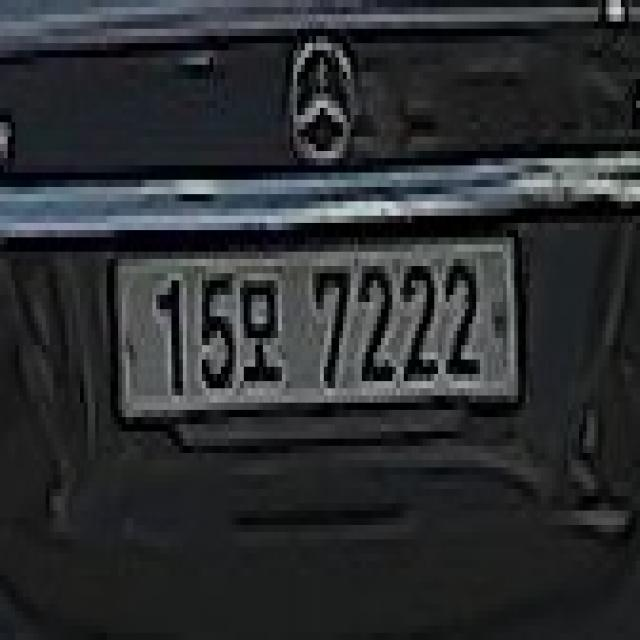1: (153, 266, 195, 403)
2: (438, 252, 488, 388), (354, 252, 400, 396), (400, 259, 442, 388)
5: (194, 266, 240, 403)
7: (305, 252, 358, 396)
license_plate: (103, 216, 533, 446)
mo: (240, 273, 290, 410)
